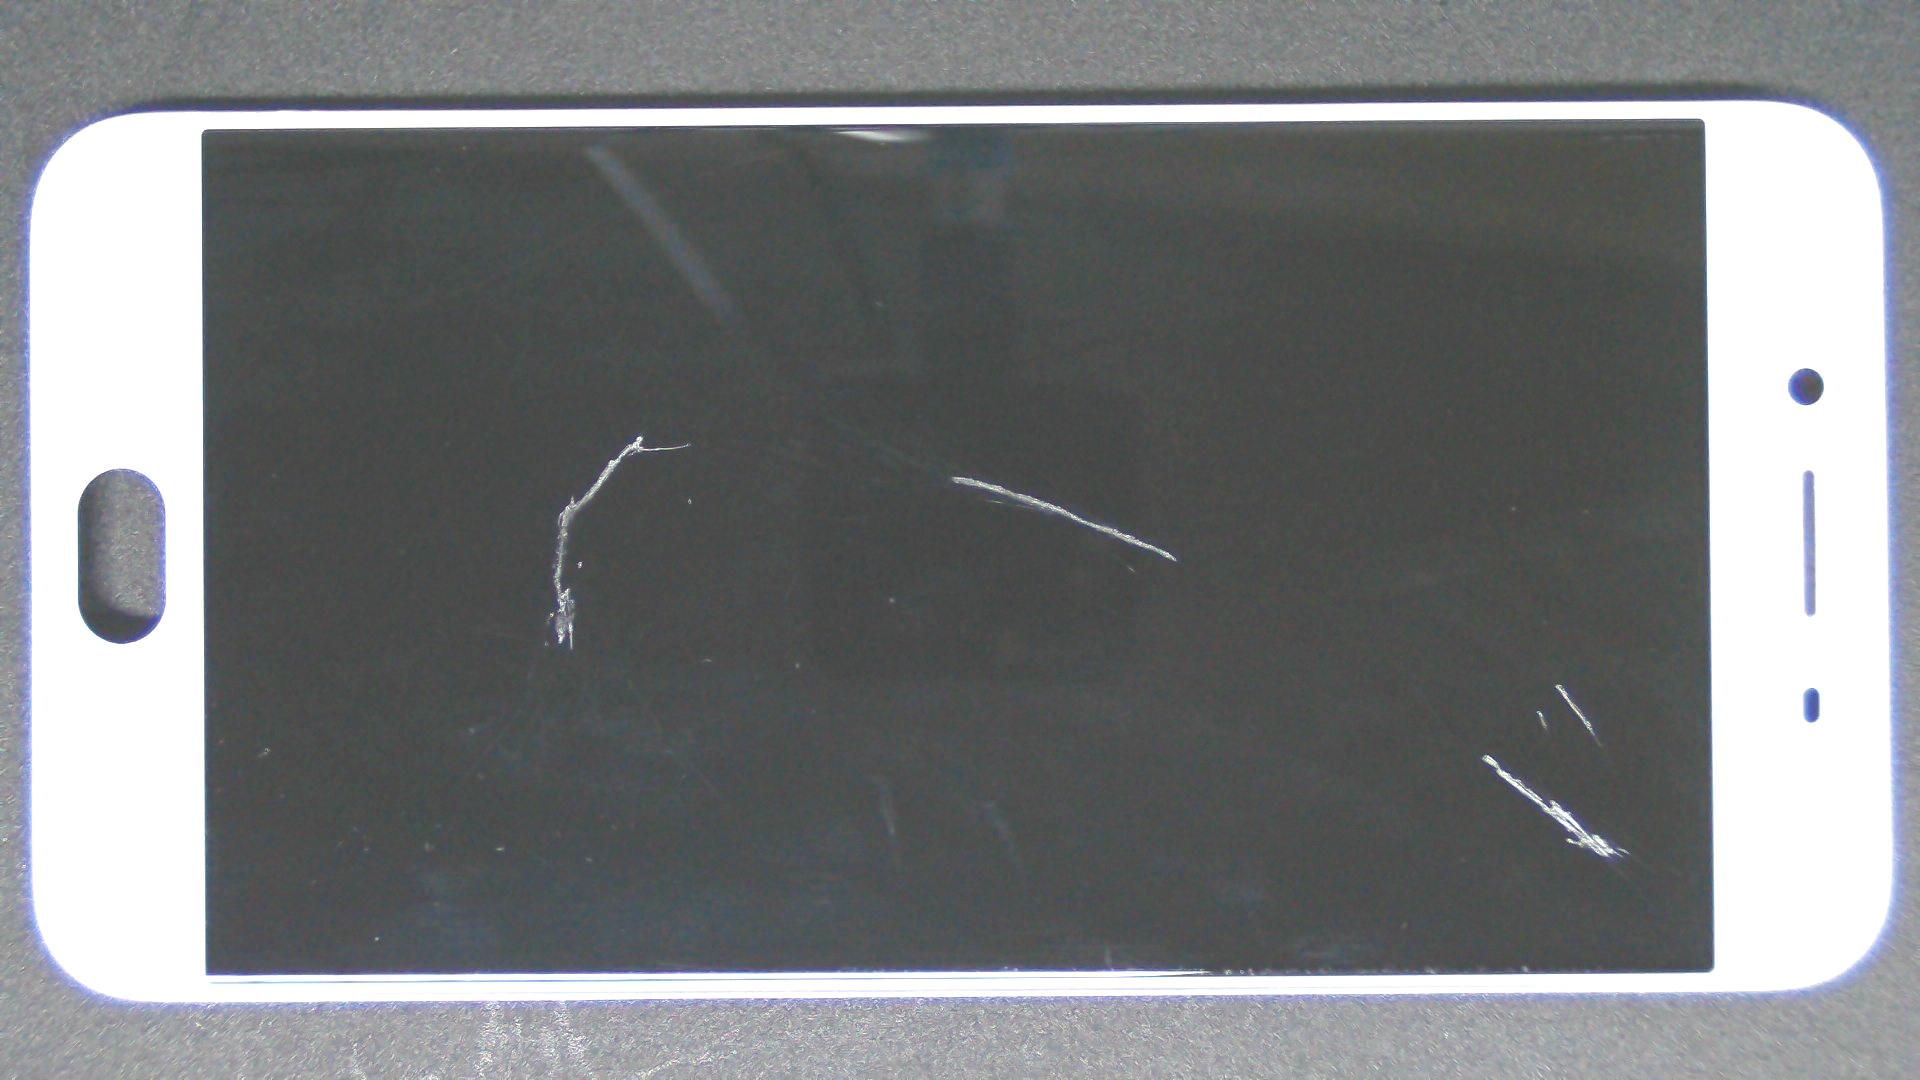oil: (742, 377, 1920, 1080), (770, 355, 1920, 1065), (781, 342, 1920, 1025), (477, 237, 1427, 715), (291, 280, 869, 843), (320, 218, 961, 653)
